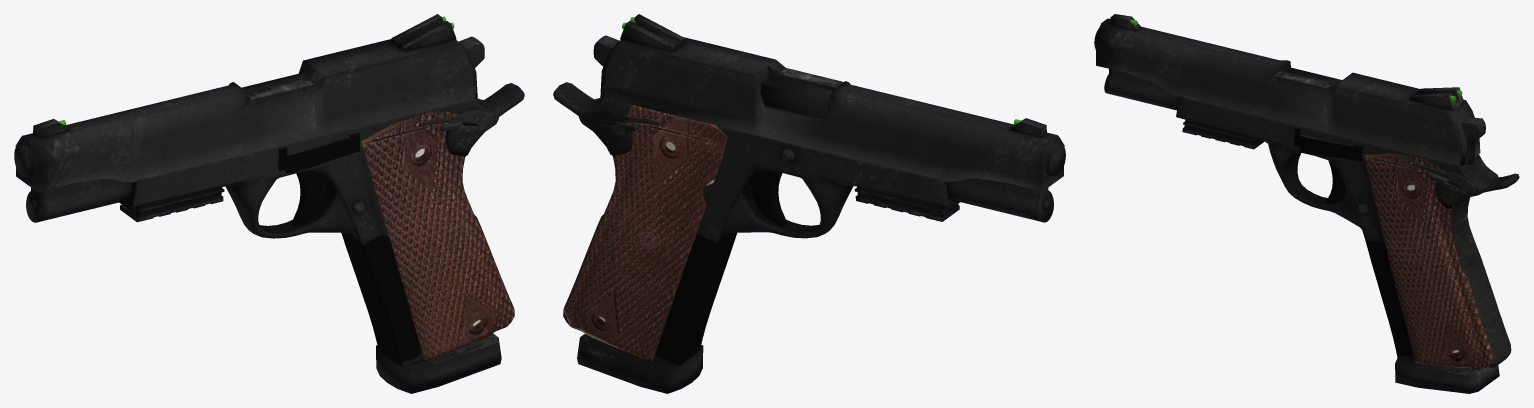
File: com16.gltf
3 renders of one model, left to right at view 1: azimuth 30°, elevation 25°; view 2: azimuth 150°, elevation 25°; view 3: azimuth 330°, elevation 25°, orthographic. The views are drawn at different scales.
Parts seen in each view (by area): view 1: 1911, 1911.001, 1911.003; view 2: 1911, 1911.001; view 3: 1911, 1911.001, 1911.003.
Part boxes in pixels (box(x1,y1,x2,y2)): 1911: box(14, 14, 524, 367); 1911.001: box(376, 333, 501, 393); 1911.003: box(277, 132, 359, 173); 1911: box(553, 14, 1065, 367); 1911.001: box(577, 334, 703, 393); 1911: box(1094, 14, 1519, 368); 1911.001: box(1395, 358, 1499, 393); 1911.003: box(1294, 126, 1363, 161).
Size of the model in its own units: 1.26 by 0.8444 by 0.154.
3 materials, 2 textured.
